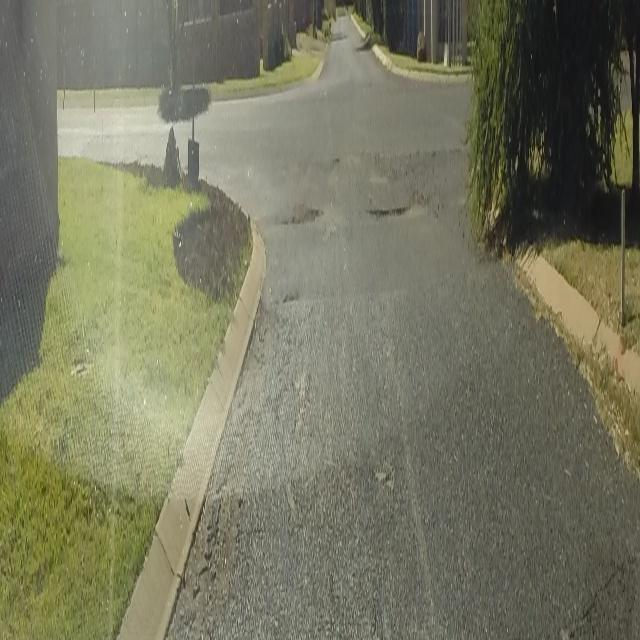pothole: (278, 194, 325, 234), (363, 200, 412, 228)
